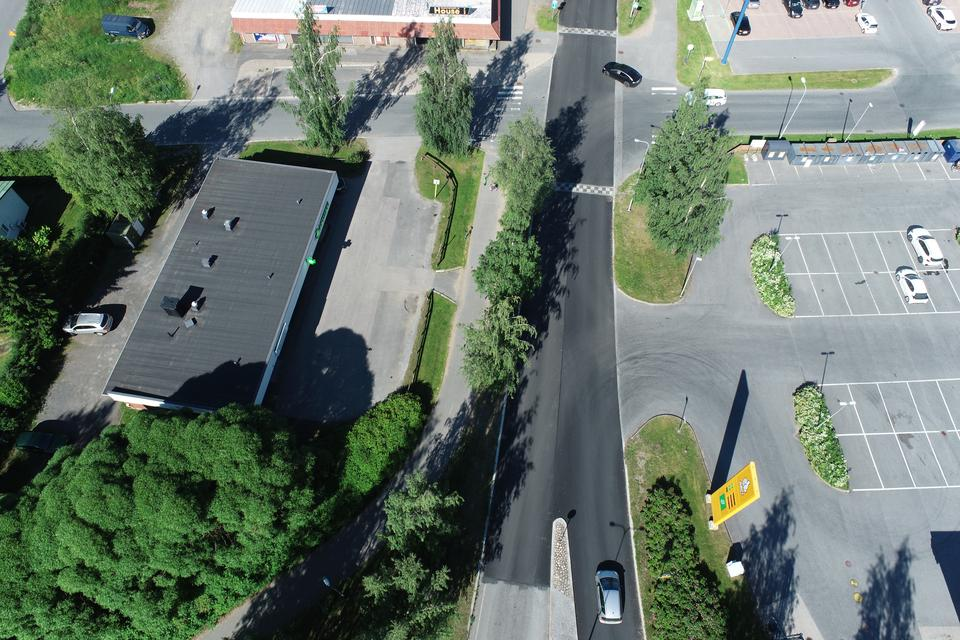intersection: (493, 260, 769, 465), (471, 59, 725, 175)
